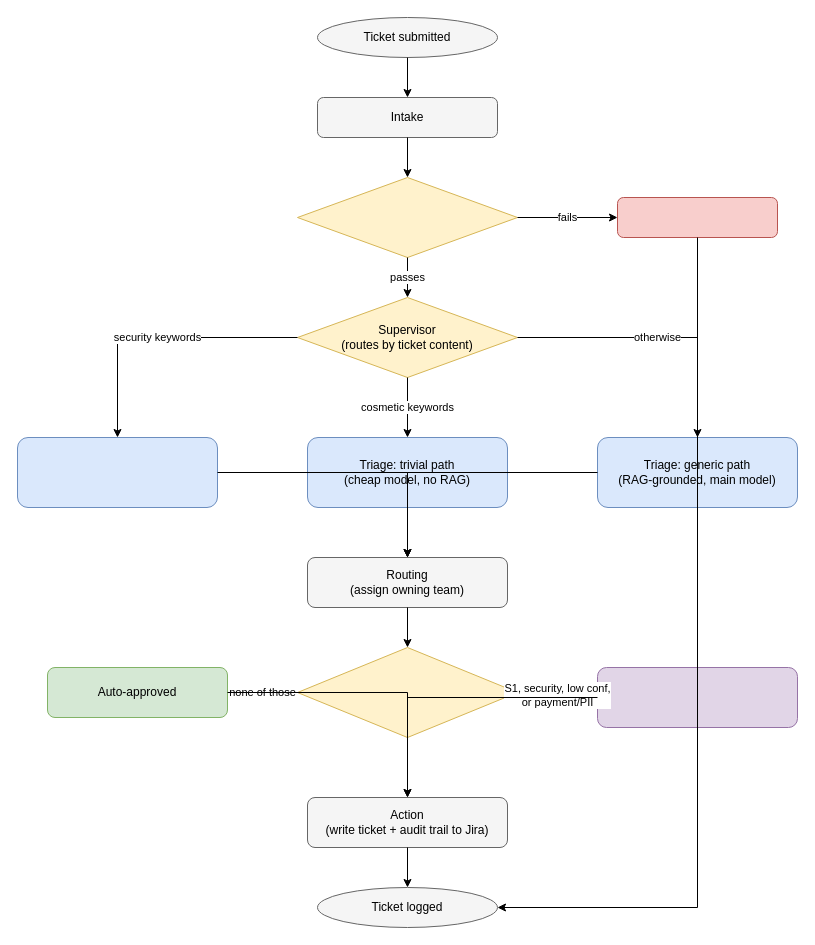
This 815x945 diagram has some shape labels left out. The box of each missing label's shape, as (x1, y1, x2, y2) in pixels:
Blocked: (616, 196, 778, 238)
Guardrail check (injection / empty input): (296, 176, 518, 258)
HITL policy check (S1 / security / low confidence / payment or PII): (296, 646, 518, 738)
Pending human review (approve or reject): (596, 666, 798, 728)
Triage: security path (specialist prompt, forces is_security_related=true): (16, 436, 218, 508)
